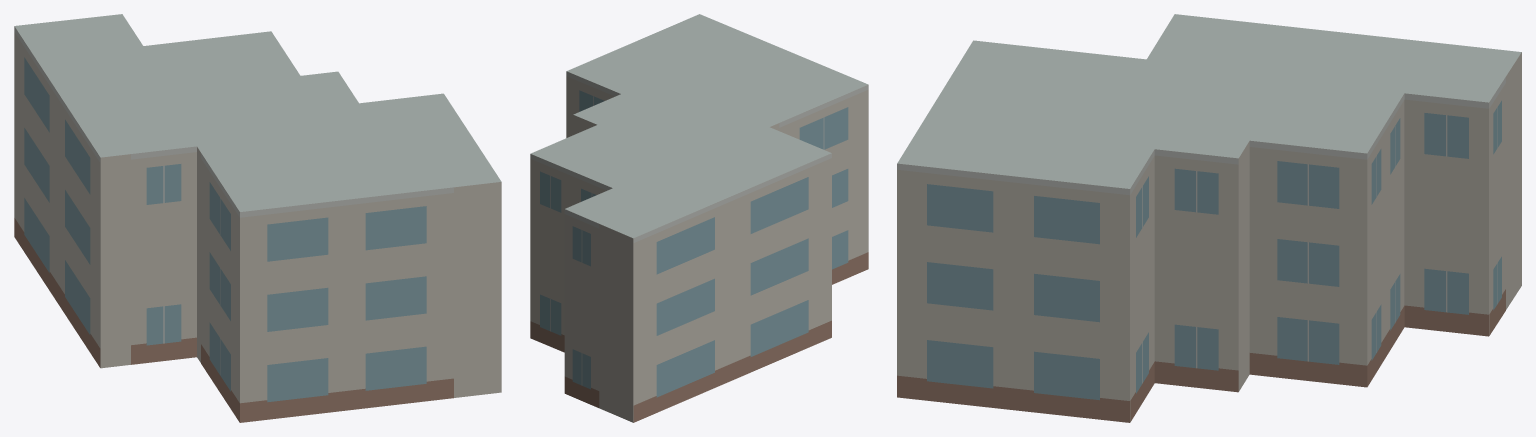
The model's file is survey-upis-32475193.glb.
The picture shows the model from 3 angles, left to right: view 1: azimuth 30°, elevation 25°; view 2: azimuth 150°, elevation 25°; view 3: azimuth 270°, elevation 25°; orthographic projection. The views are drawn at different scales.
Visible parts, largest first — view 1: survey-upis-32475193.tmp; view 2: survey-upis-32475193.tmp; view 3: survey-upis-32475193.tmp.
Boxes of the visible parts, x1,y1,x2,y2 form: survey-upis-32475193.tmp: (14,14,501,422); survey-upis-32475193.tmp: (530,14,868,422); survey-upis-32475193.tmp: (897,14,1521,422).
Size of the model in its own units: 14.69 by 9.15 by 22.15.
